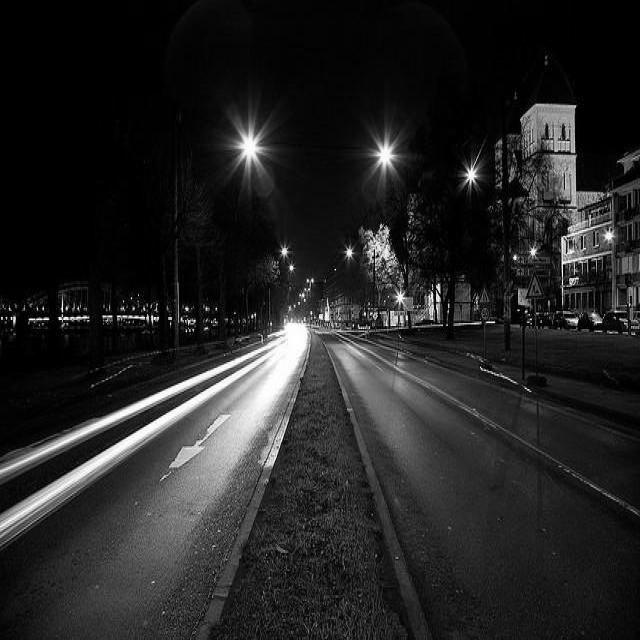vehicle: (602, 308, 628, 334), (577, 311, 603, 333), (554, 311, 578, 331), (538, 311, 554, 329)
